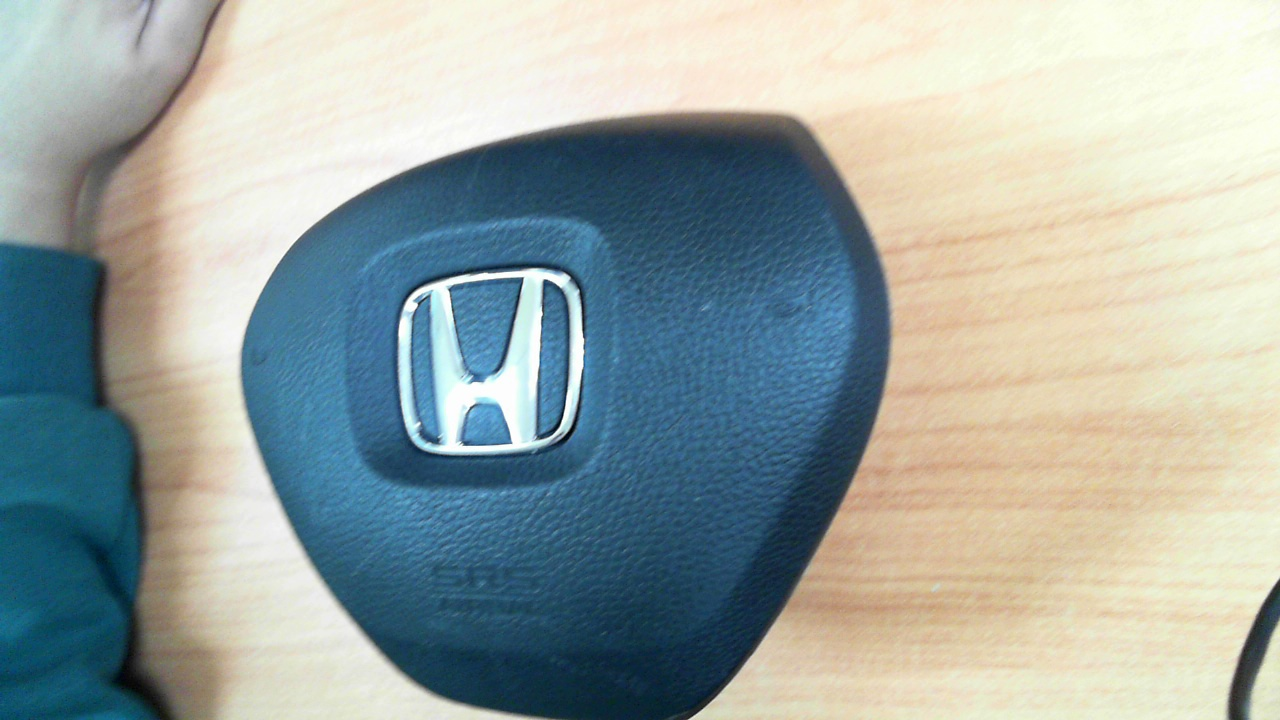Airbag: (239, 111, 893, 716)
Honda: (397, 267, 585, 457)
